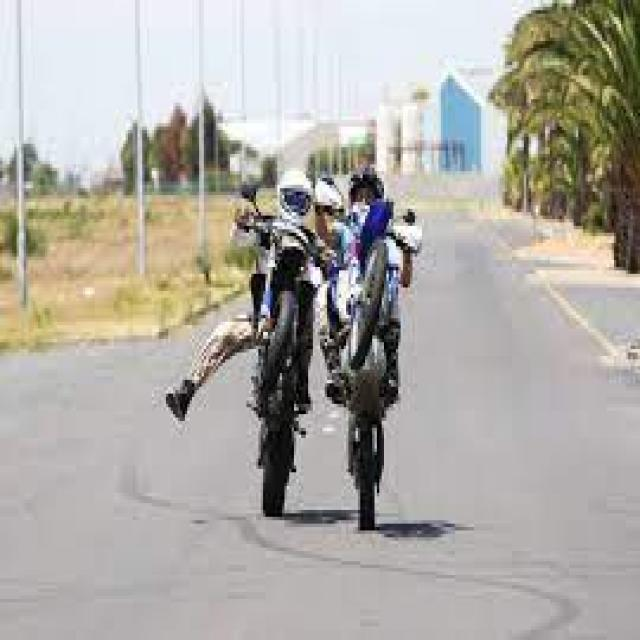Wheeling: (245, 96, 433, 541)
